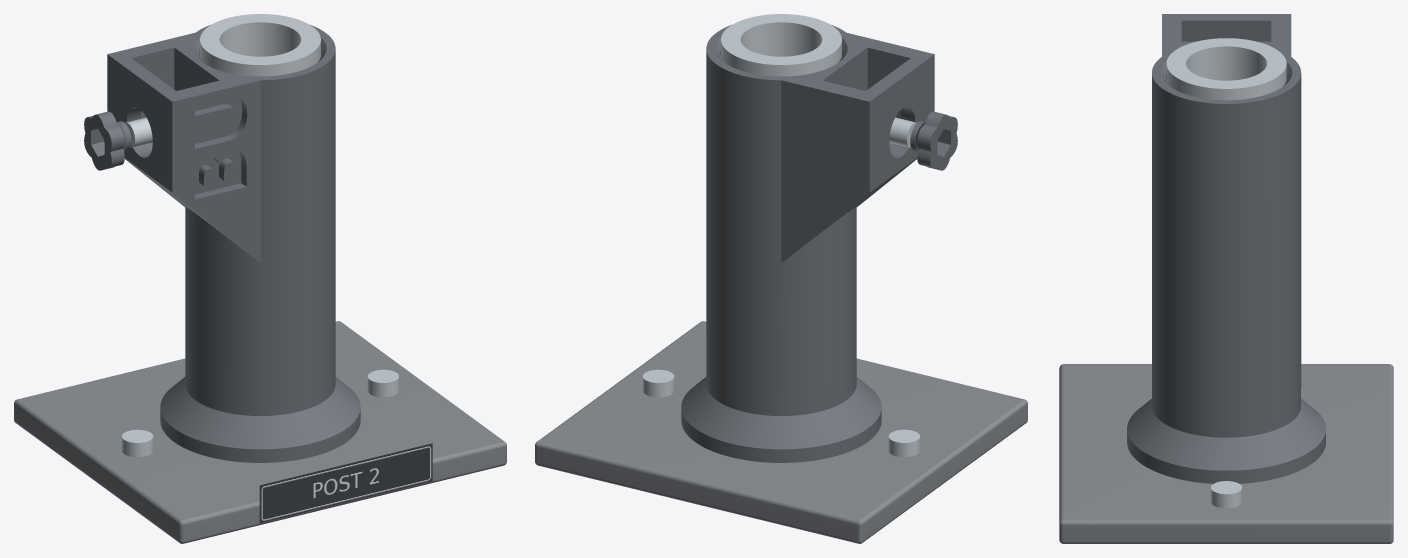
The model's file is POST2.glb.
The picture shows the model from 3 angles, left to right: view 1: azimuth 30°, elevation 25°; view 2: azimuth 150°, elevation 25°; view 3: azimuth 270°, elevation 25°; orthographic projection.
Parts seen in each view (by area): view 1: POST2/0000_Winters_B01_post_holder, POST2/0001_hold_down_adapter, POST2/label_8, POST2/0004_sleeve_body, POST2/0006_Winters_M02_locking_knob, POST2/0002_hold_down_screw, POST2/0003_hold_down_screw, POST2/0007_locking_screw; view 2: POST2/0000_Winters_B01_post_holder, POST2/0001_hold_down_adapter, POST2/0004_sleeve_body, POST2/0006_Winters_M02_locking_knob, POST2/0002_hold_down_screw, POST2/0003_hold_down_screw, POST2/0007_locking_screw; view 3: POST2/0000_Winters_B01_post_holder, POST2/0001_hold_down_adapter, POST2/0004_sleeve_body, POST2/0003_hold_down_screw.
Boxes of the visible parts, x1,y1,x2,y2 form: POST2/0000_Winters_B01_post_holder: [107, 25, 360, 462]; POST2/0001_hold_down_adapter: [14, 321, 506, 543]; POST2/label_8: [259, 443, 432, 523]; POST2/0004_sleeve_body: [200, 14, 320, 76]; POST2/0006_Winters_M02_locking_knob: [84, 111, 131, 170]; POST2/0002_hold_down_screw: [122, 429, 153, 457]; POST2/0003_hold_down_screw: [367, 369, 398, 397]; POST2/0007_locking_screw: [125, 117, 152, 147]; POST2/0000_Winters_B01_post_holder: [681, 25, 934, 462]; POST2/0001_hold_down_adapter: [535, 321, 1027, 543]; POST2/0004_sleeve_body: [721, 14, 841, 76]; POST2/0006_Winters_M02_locking_knob: [910, 111, 957, 170]; POST2/0002_hold_down_screw: [888, 429, 919, 457]; POST2/0003_hold_down_screw: [643, 369, 674, 397]; POST2/0007_locking_screw: [889, 117, 916, 147]; POST2/0000_Winters_B01_post_holder: [1127, 14, 1325, 483]; POST2/0001_hold_down_adapter: [1059, 364, 1393, 543]; POST2/0004_sleeve_body: [1166, 38, 1286, 100]; POST2/0003_hold_down_screw: [1211, 481, 1242, 508].
Size of the model in its own units: 0.072 by 0.085 by 0.0646.
8 materials, 1 textured.
